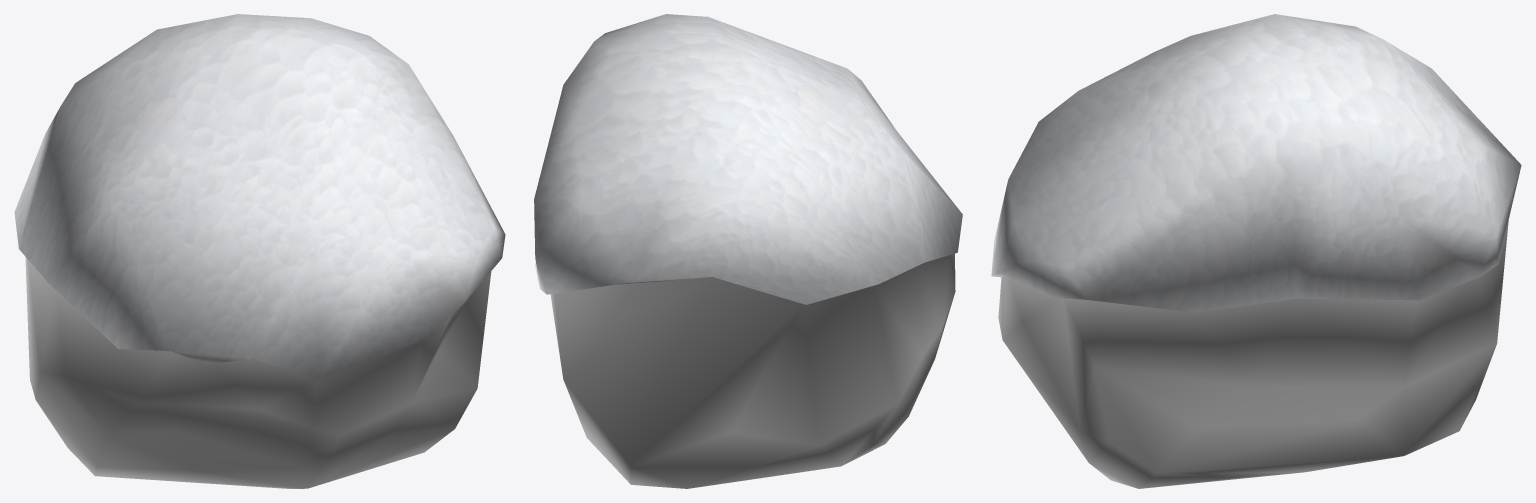
File: rock_s02.fbx
The picture shows the model from 3 angles, left to right: view 1: azimuth 30°, elevation 25°; view 2: azimuth 150°, elevation 25°; view 3: azimuth 270°, elevation 25°; orthographic projection. The views are drawn at different scales.
Visible parts, largest first — view 1: rock_s02; view 2: rock_s02; view 3: rock_s02.
Part boxes in pixels (bbox=[...]): rock_s02: bbox=[14, 14, 505, 488]; rock_s02: bbox=[534, 14, 962, 488]; rock_s02: bbox=[991, 14, 1521, 488].
Bounding box in the file's own units: 221 × 215 × 254.
